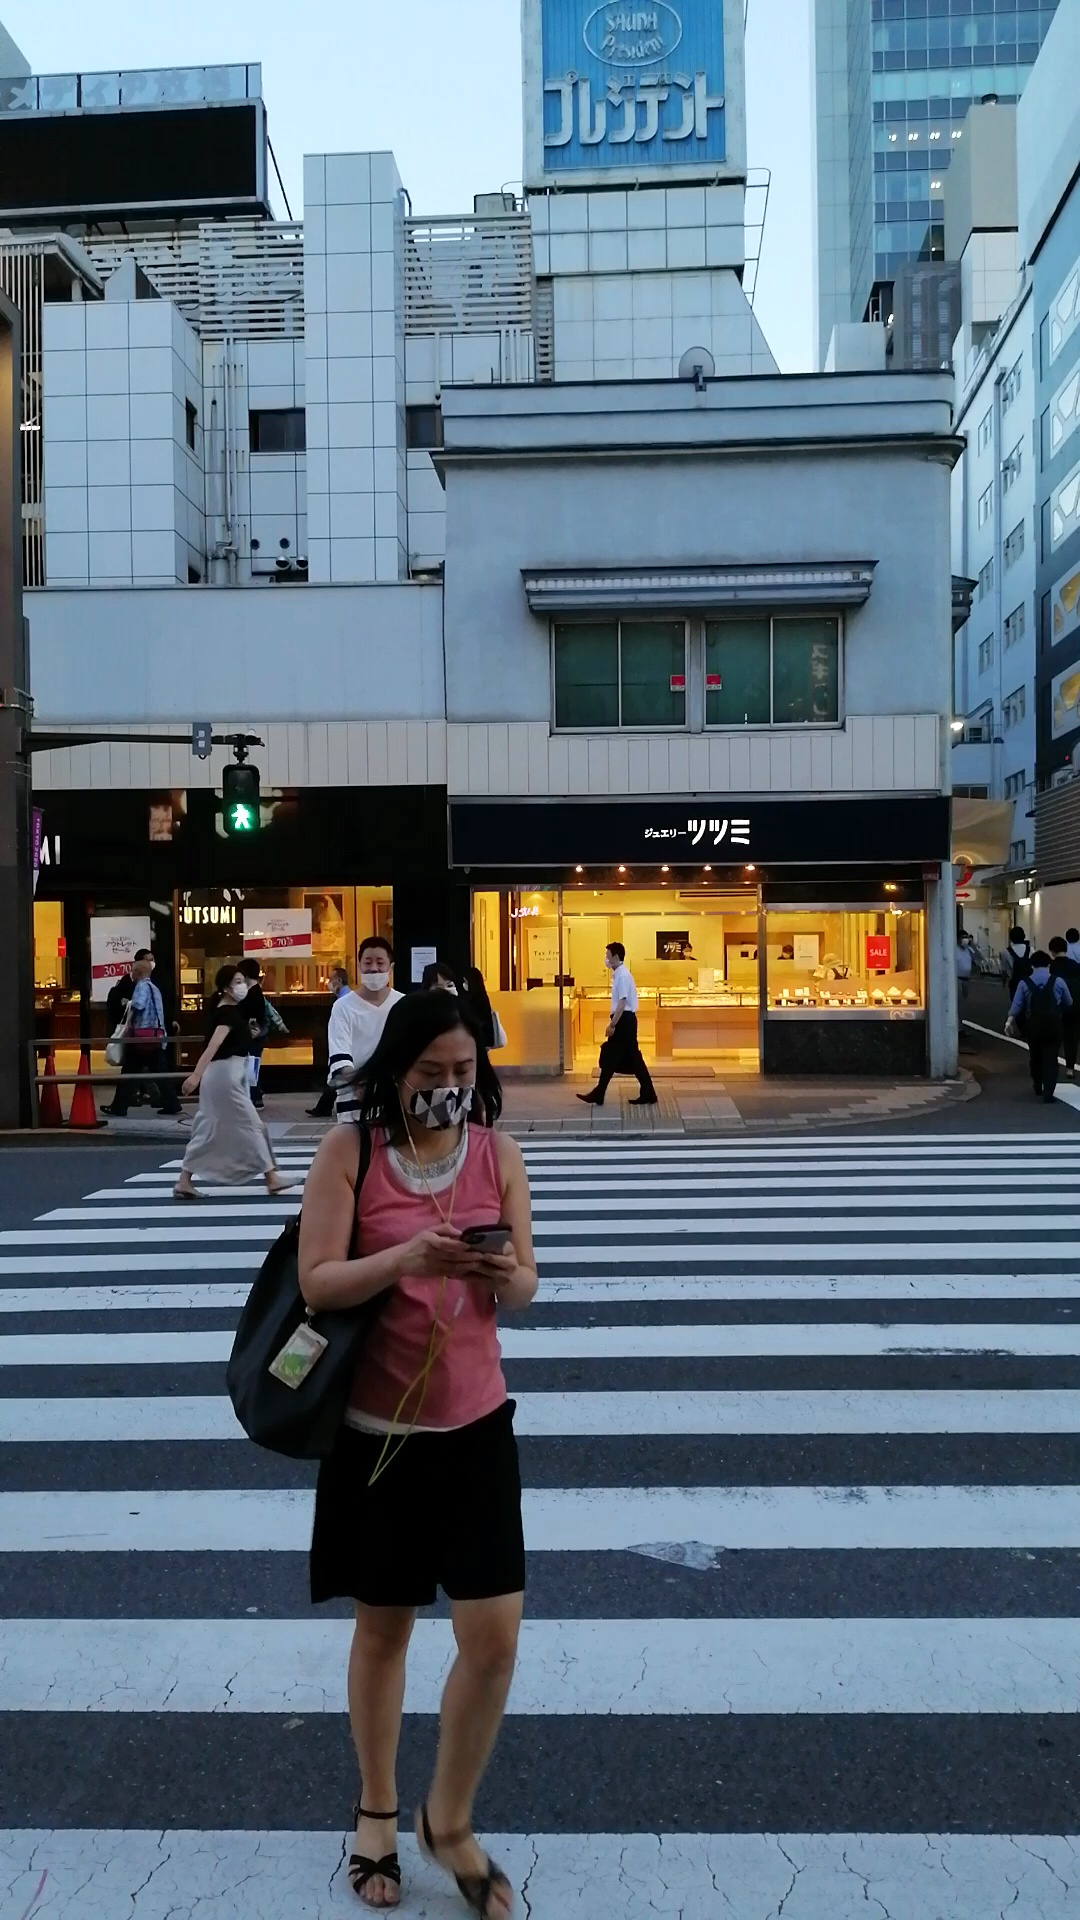green: (220, 764, 261, 836)
